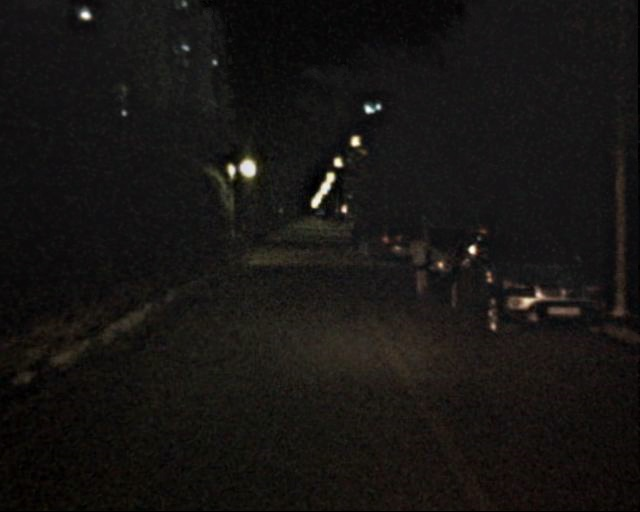person: (402, 228, 432, 300), (352, 215, 371, 262), (344, 220, 358, 254)
